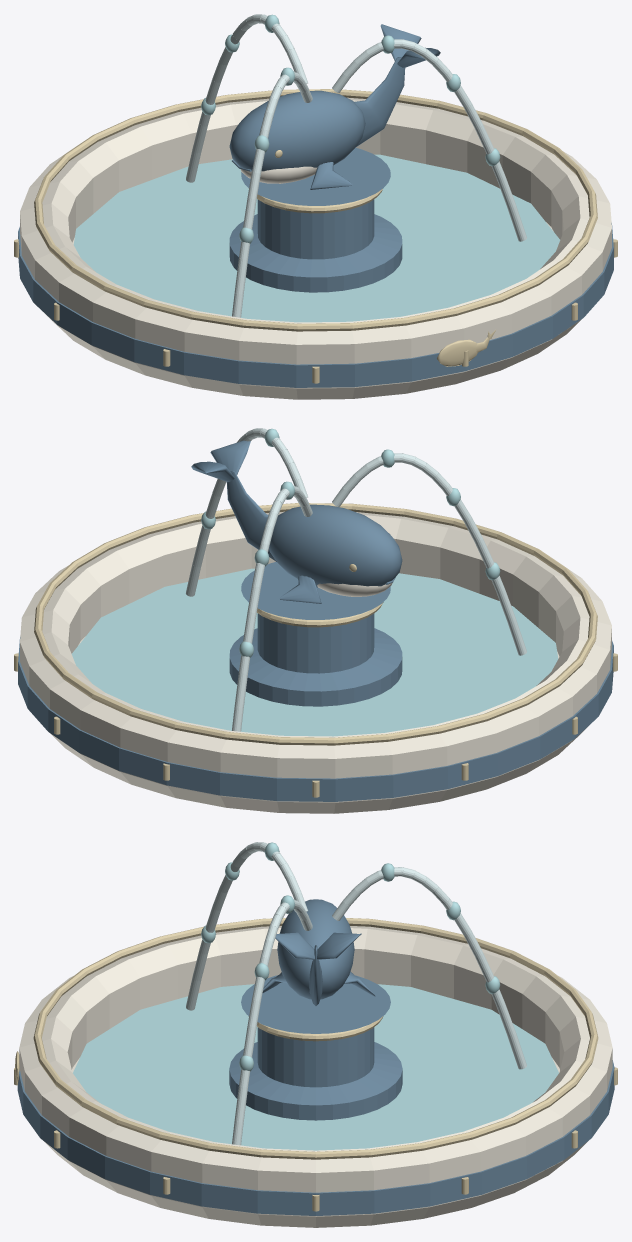
Rendered from library_whale_fountain.glb.
The picture shows the model from 3 angles, top to bottom: view 1: azimuth 30°, elevation 25°; view 2: azimuth 150°, elevation 25°; view 3: azimuth 270°, elevation 25°; orthographic projection.
Visible parts, largest first — view 1: decor_e0d7bf_matte, decor_75b7bf_matte, decor_29445e_matte, decor_bca46d_metal, decor_b2d2d5_matte; view 2: decor_e0d7bf_matte, decor_75b7bf_matte, decor_29445e_matte, decor_bca46d_metal, decor_b2d2d5_matte; view 3: decor_e0d7bf_matte, decor_75b7bf_matte, decor_29445e_matte, decor_bca46d_metal, decor_b2d2d5_matte.
Boxes of the visible parts, x1,y1,x2,y2 form: decor_e0d7bf_matte: (20,97,611,399); decor_75b7bf_matte: (73,14,560,322); decor_29445e_matte: (18,24,613,387); decor_bca46d_metal: (14,89,617,383); decor_b2d2d5_matte: (186,14,526,317); decor_e0d7bf_matte: (20,511,611,813); decor_75b7bf_matte: (71,428,558,736); decor_29445e_matte: (18,440,613,801); decor_bca46d_metal: (14,503,617,797); decor_b2d2d5_matte: (186,428,526,731); decor_e0d7bf_matte: (19,926,612,1227); decor_75b7bf_matte: (73,842,558,1150); decor_29445e_matte: (17,899,614,1215); decor_bca46d_metal: (14,918,617,1211); decor_b2d2d5_matte: (186,842,526,1145).
Size of the model in its own units: 3.62 by 1.6 by 3.62.
